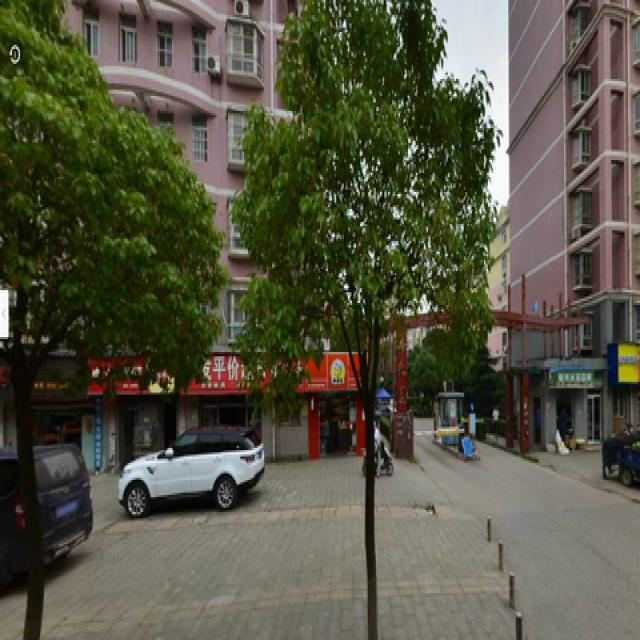cinn: (249, 6, 491, 638)
